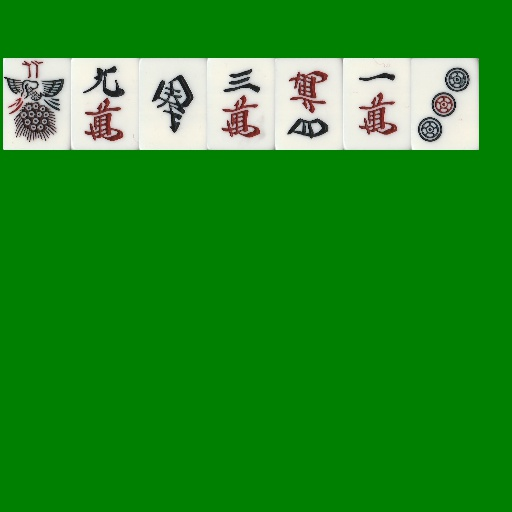1m: (343, 58, 411, 150)
1s: (3, 58, 71, 150)
3m: (207, 58, 275, 150)
3p: (411, 58, 479, 150)
4m: (275, 58, 343, 150)
9m: (71, 58, 139, 150)
south: (139, 58, 207, 150)
